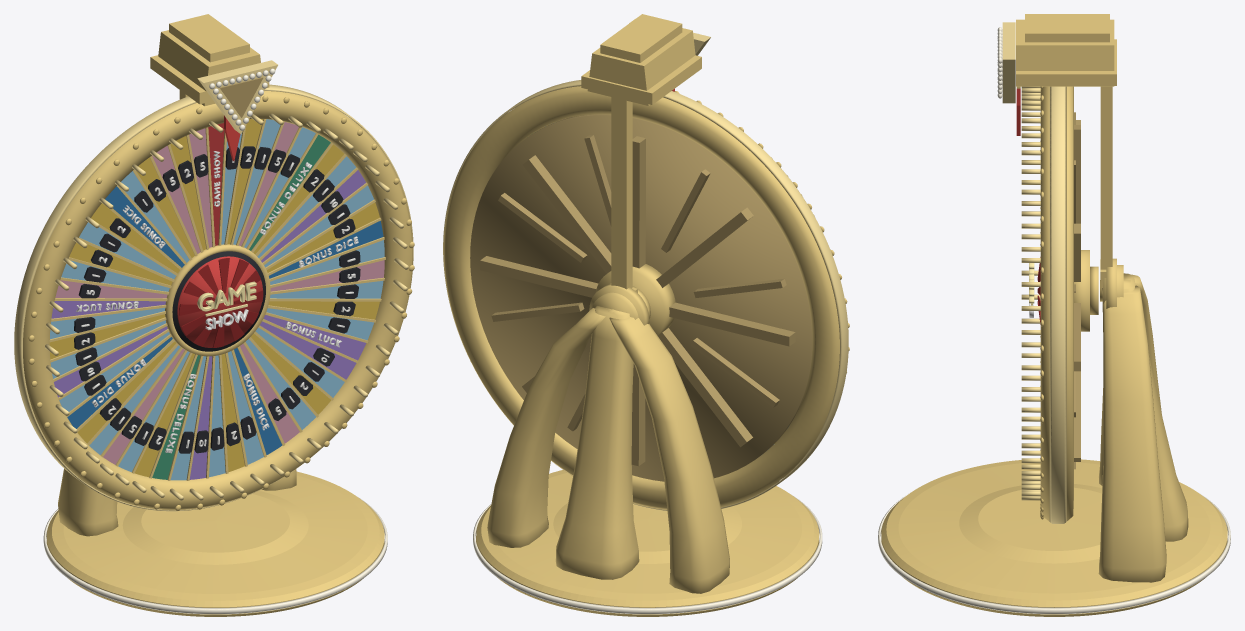
The model's file is CrazyTime_Wheel.fbx.
3 views of the same model, side by side, from view 1: azimuth 30°, elevation 25°; view 2: azimuth 150°, elevation 25°; view 3: azimuth 270°, elevation 25° (orthographic). The views are drawn at different scales.
Visible parts, largest first — view 1: CT_WheelFace, CT_Base, CT_Rim, CT_Dividers, CT_Shields, CT_FlapHousing, CT_RimTrim, CT_Pegs, CT_HubFace, CT_BaseLED, CT_Leg_L, CT_HubSunburst (+7 smaller); view 2: CT_BackPlate, CT_Rim, CT_Base, CT_Brace, CT_Leg_L, CT_Spokes, CT_Leg_R, CT_FlapHousing, CT_SpokesB, CT_RimTrim, CT_Mast, CT_BaseLED (+2 smaller); view 3: CT_Base, CT_Leg_R, CT_RimTrim, CT_Rim, CT_FlapHousing, CT_Pegs, CT_BaseLED, CT_Brace, CT_Mast, CT_Spokes, CT_RearHub, CT_FlapPlate (+3 smaller).
Part boxes in pixels (x1,y1,x2,y2): CT_WheelFace: (49,119,384,480); CT_Base: (46,471,384,616); CT_Rim: (23,91,412,510); CT_Dividers: (49,119,385,480); CT_Shields: (74,146,360,453); CT_FlapHousing: (150,14,269,106); CT_RimTrim: (14,84,413,511); CT_Pegs: (45,113,408,500); CT_HubFace: (177,256,262,347); CT_BaseLED: (43,496,387,614); CT_Leg_L: (58,468,118,536); CT_HubSunburst: (179,258,263,347); CT_BackPlate: (470,114,812,481); CT_Rim: (443,86,839,509); CT_Base: (476,470,819,616); CT_Brace: (555,306,639,579); CT_Leg_L: (609,317,729,593); CT_Spokes: (480,136,795,466); CT_Leg_R: (487,308,605,547); CT_FlapHousing: (581,14,701,105); CT_SpokesB: (491,135,786,431); CT_RimTrim: (443,80,848,510); CT_Mast: (611,97,637,292); CT_BaseLED: (473,494,822,614); CT_Base: (881,459,1227,616); CT_Leg_R: (1098,285,1166,582); CT_RimTrim: (1049,86,1066,523); CT_Rim: (1040,86,1073,521); CT_FlapHousing: (1016,14,1116,86); CT_Pegs: (1021,86,1040,500); CT_BaseLED: (878,493,1230,614); CT_Brace: (1123,273,1188,541); CT_Mast: (1100,86,1112,287); CT_Spokes: (1074,120,1080,461); CT_RearHub: (1074,250,1098,331); CT_FlapPlate: (1002,22,1015,103).
Size of the model in its own units: 269 by 332 by 204.
